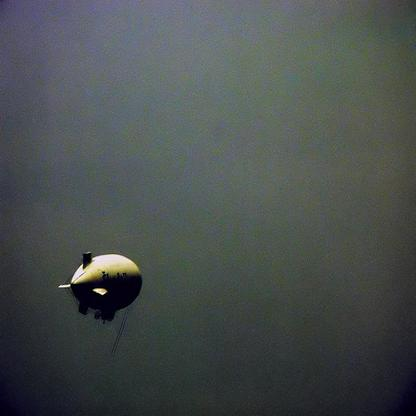Airship: (56, 246, 152, 324)
